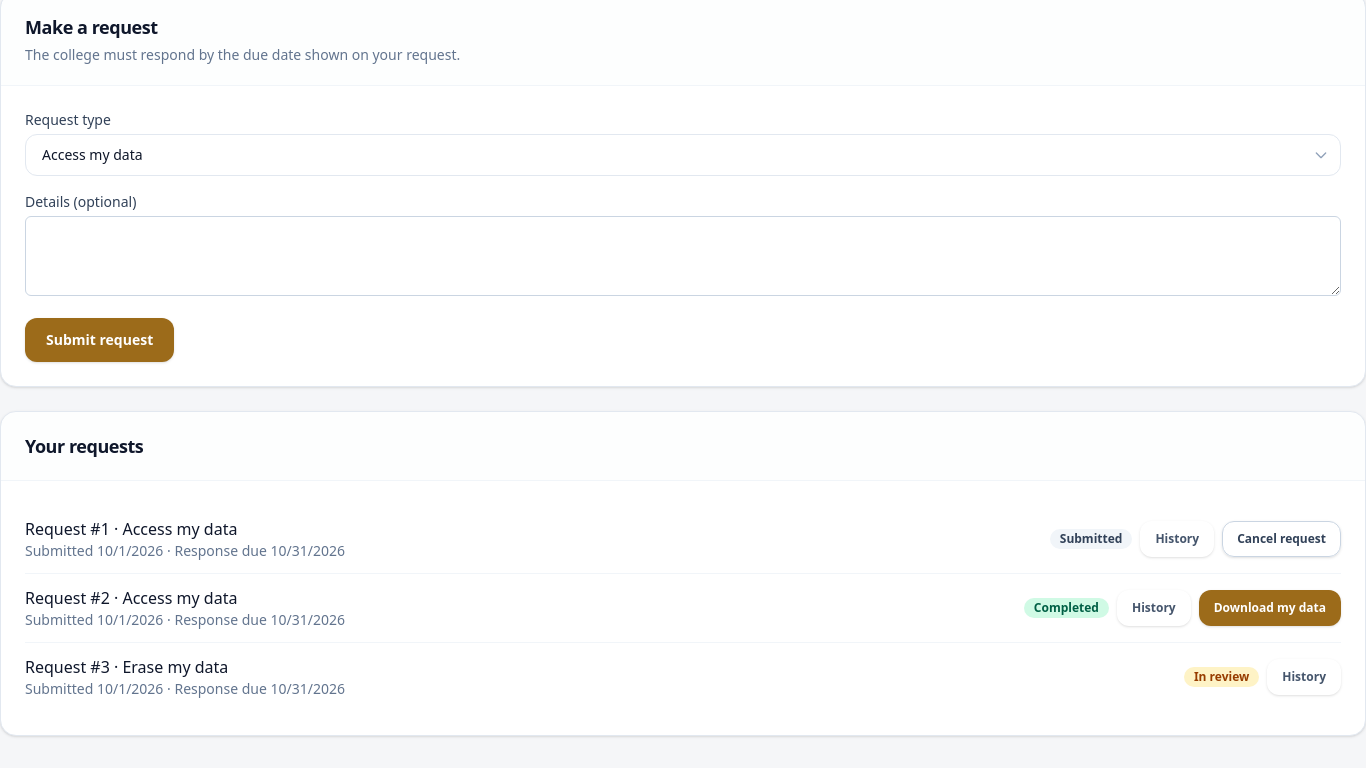
Test: MyPrivacyPage › shows an error when the history fails to load
(page scrolled)
Step 1. Click the 1st button "History" → click(1177, 539), box [1140,521,1214,557]
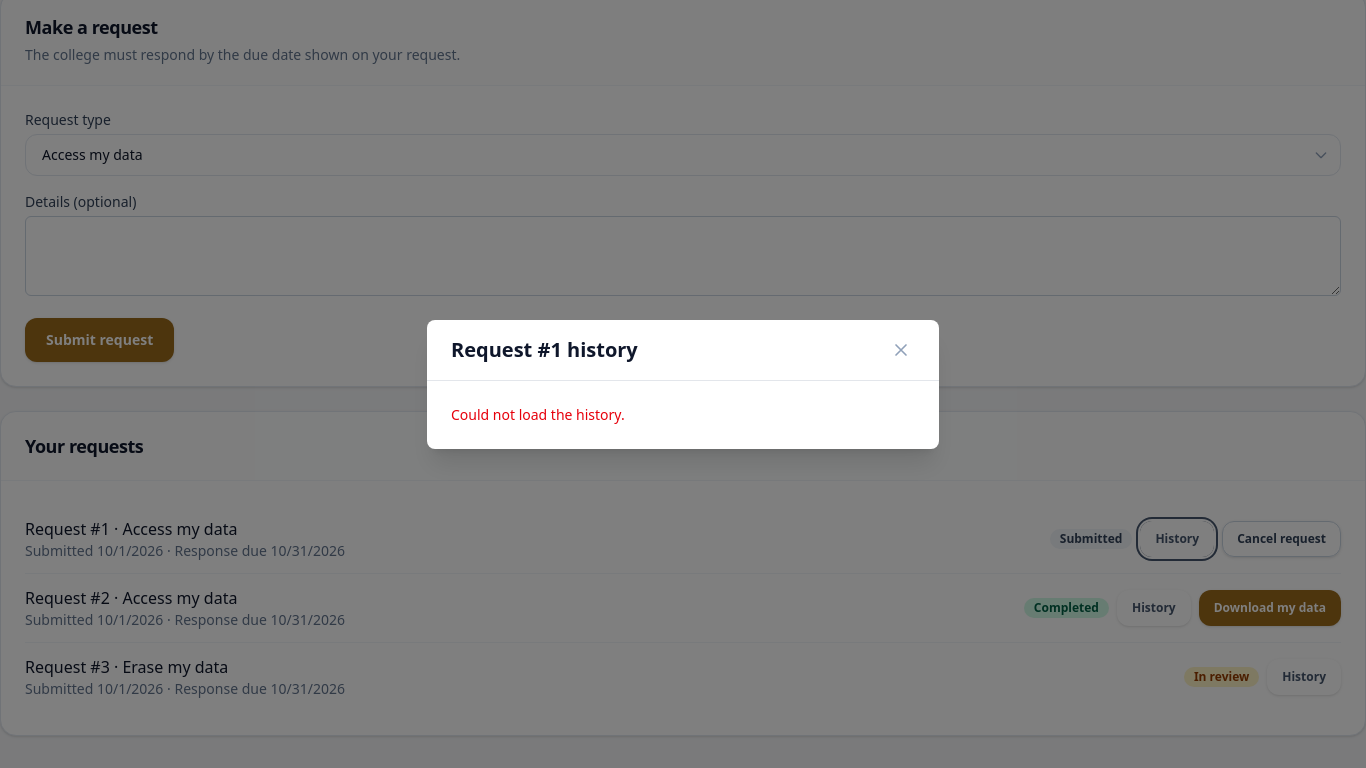
expect the text "Could not load the history." is shown: met, box [451,404,625,424]
